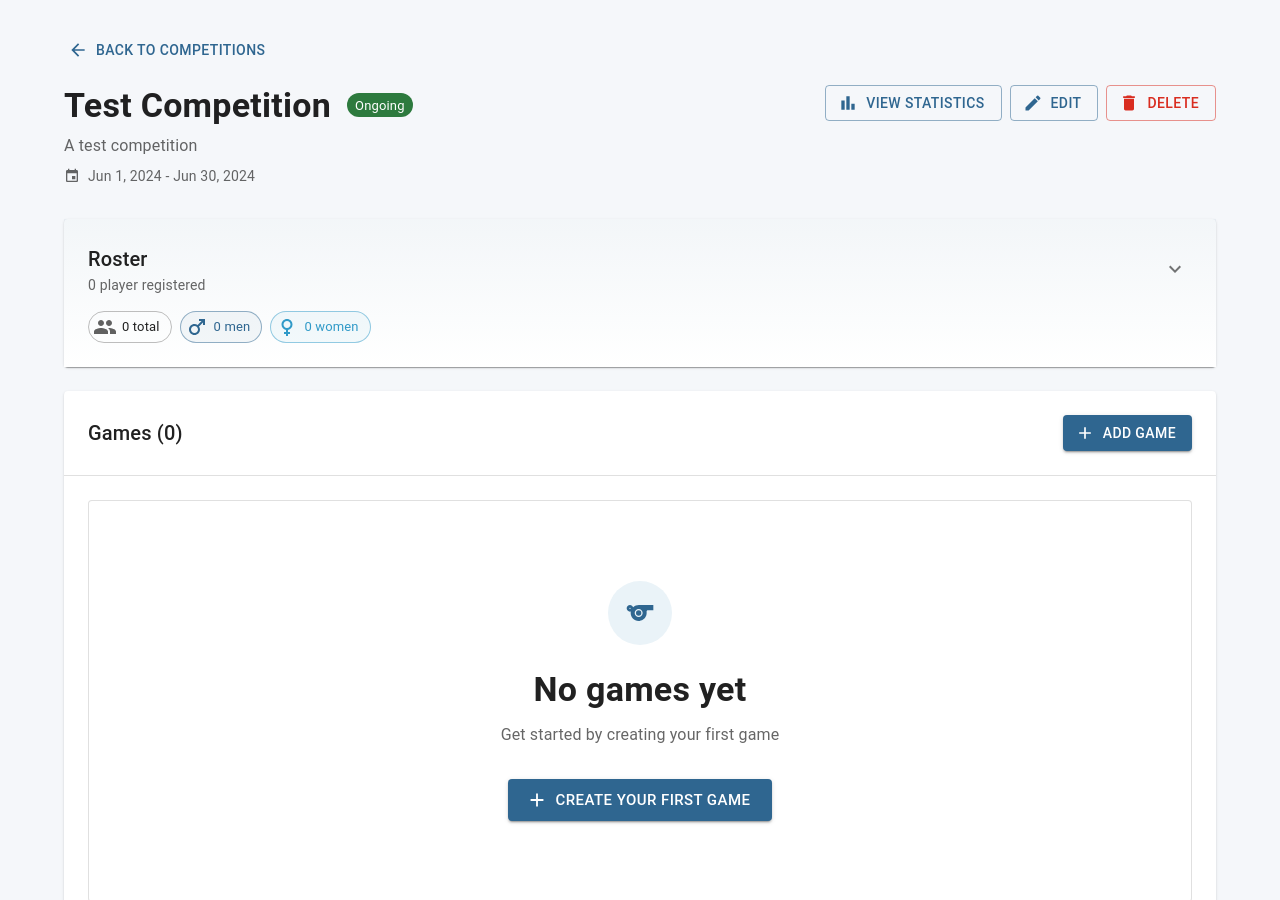
it: CompetitionDetailPage › allows editing competition details
The image size is (1280, 900).
Check: the heading "Test Competition" is shown, box top-left (64, 84), bottom-right (331, 126)
Click Edit button
Click the button "Edit" at (1054, 103), box top-left (1010, 84), bottom-right (1098, 121)
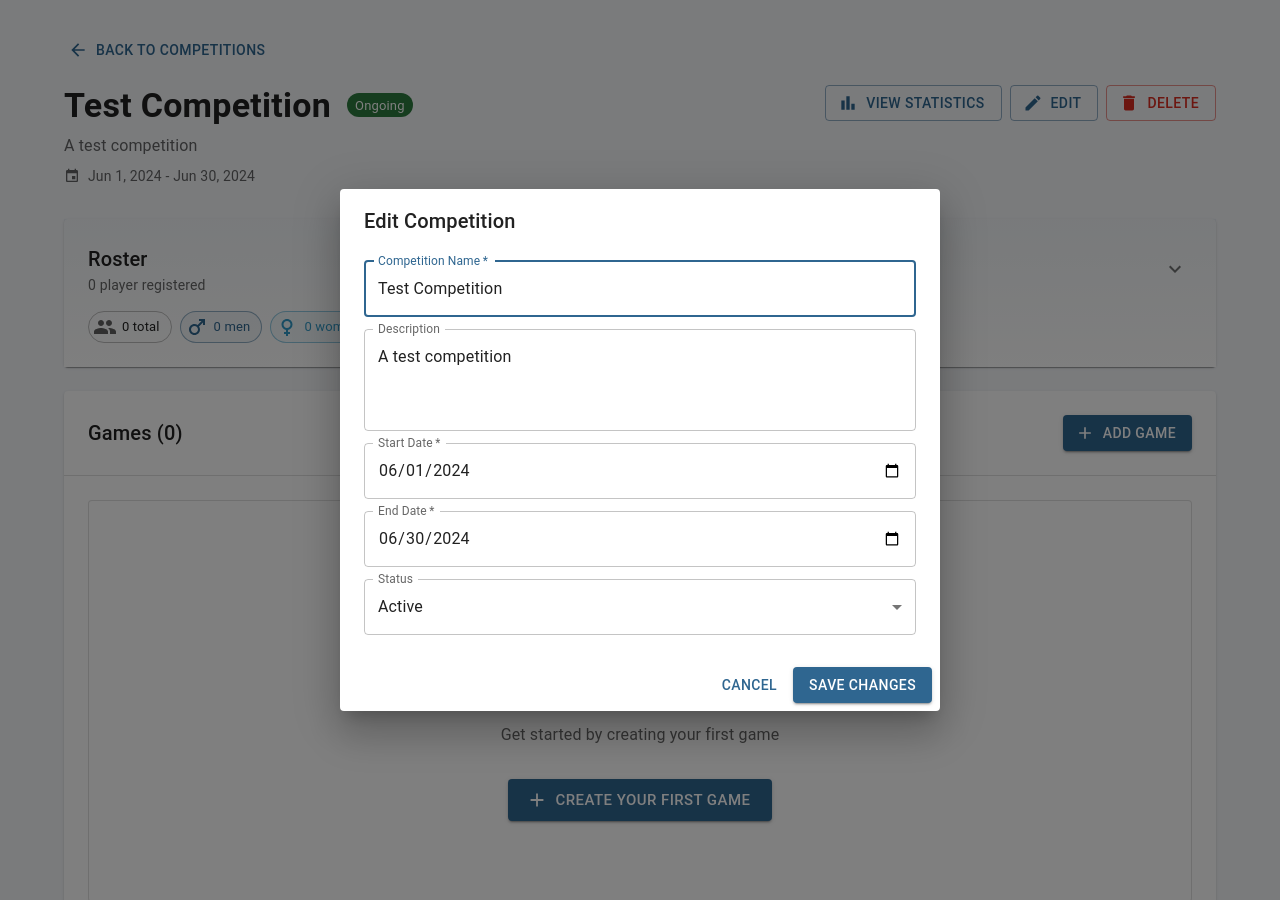
Check: the heading "Edit Competition" is shown, box top-left (364, 209), bottom-right (516, 233)
Change the name
Replace the text in the field labelled "Competition Name *" with "Updated Competition" at (640, 289), box top-left (364, 261), bottom-right (916, 317)
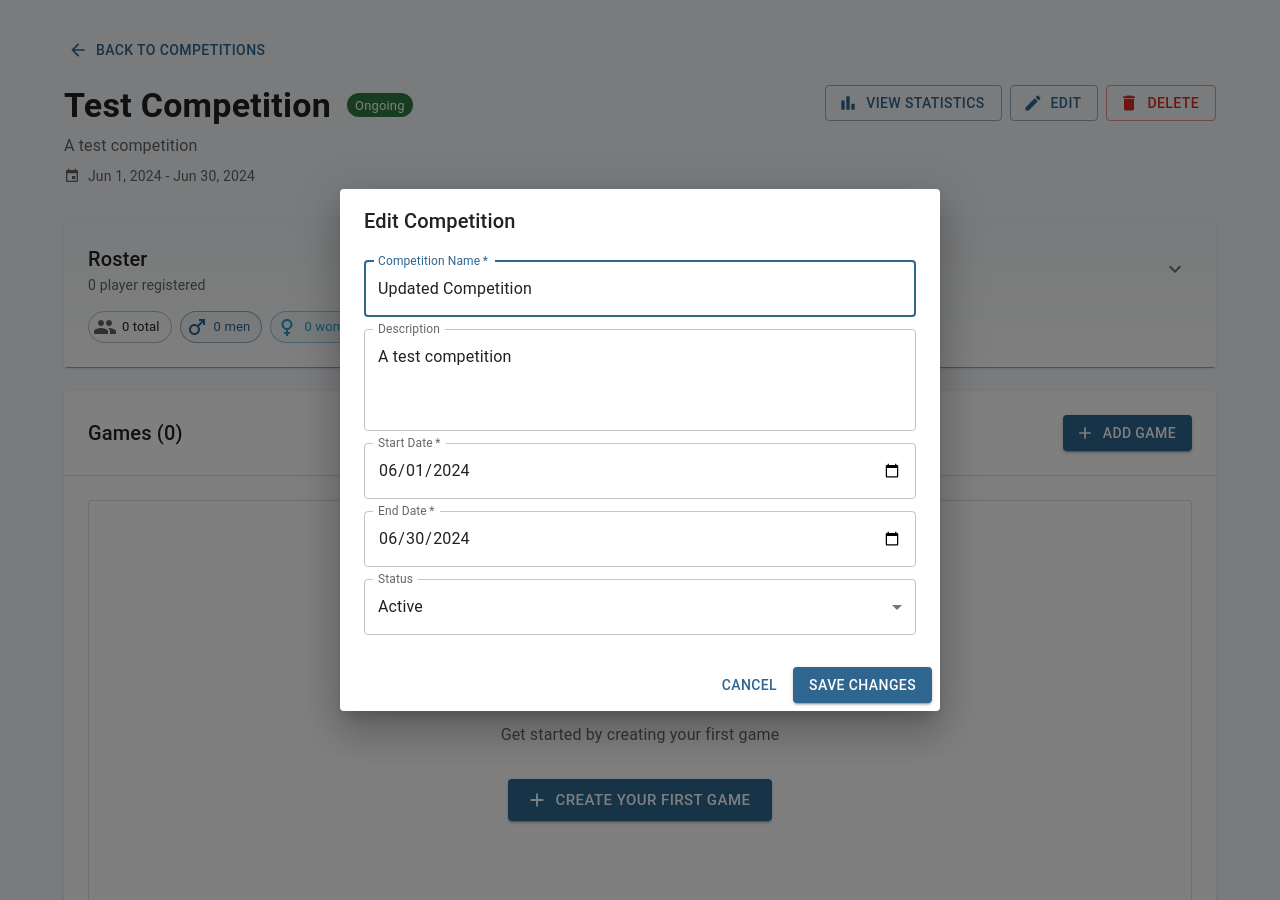
Save changes
Click the button "Save Changes" at (863, 685), box top-left (793, 667), bottom-right (932, 703)
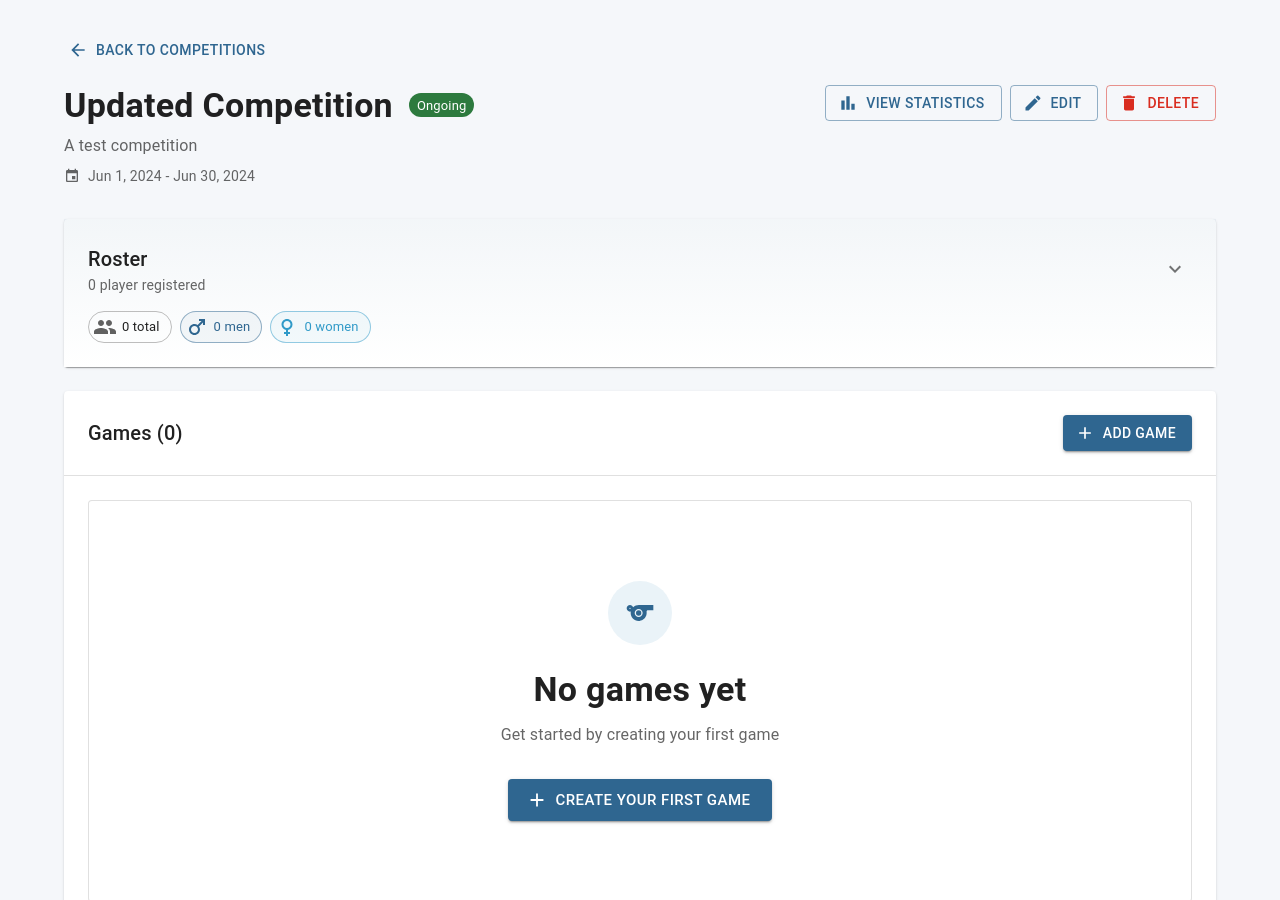
Check: the dialog is gone
Check: the heading "Updated Competition" is shown, box top-left (64, 84), bottom-right (393, 126)
